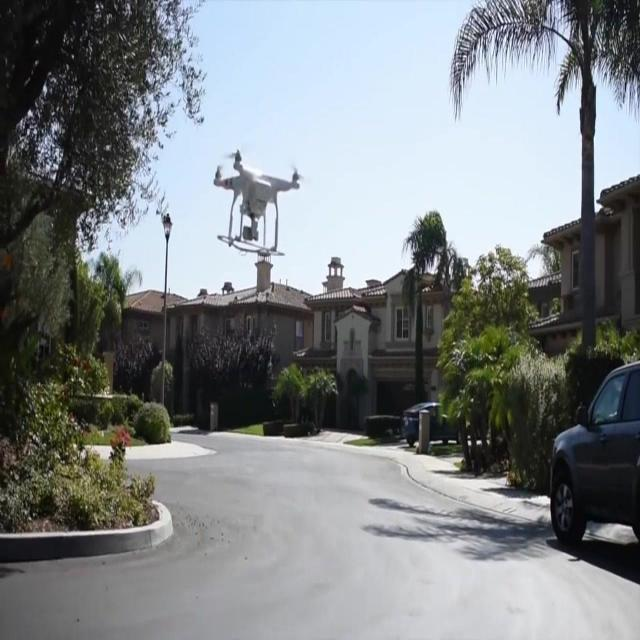UAV: (214, 148, 304, 256)
